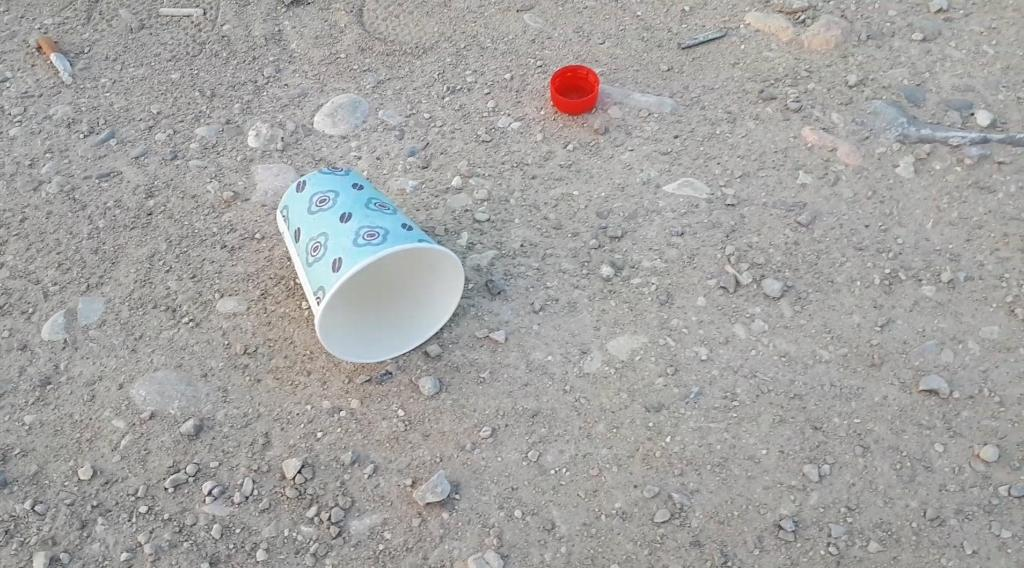garbage: (248, 160, 474, 373)
